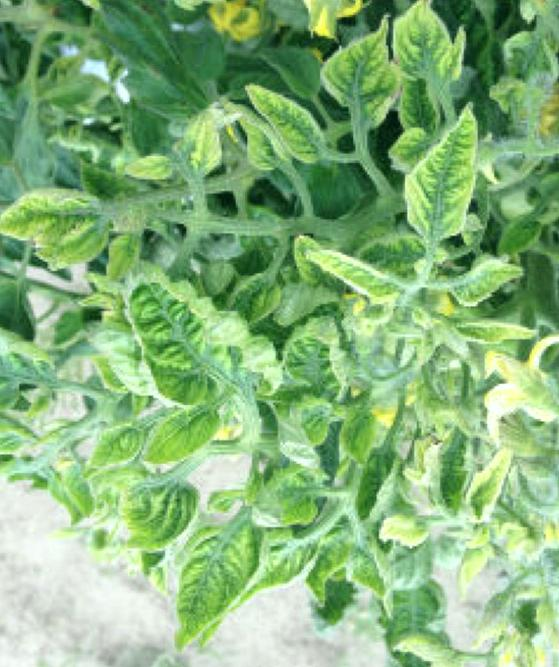Tomato leaf yellow virus: (109, 248, 290, 412), (150, 520, 263, 657), (393, 106, 497, 249), (0, 163, 121, 270), (385, 0, 504, 99), (261, 310, 372, 400), (123, 382, 235, 471), (239, 76, 333, 166), (321, 28, 406, 124), (477, 347, 559, 414)
